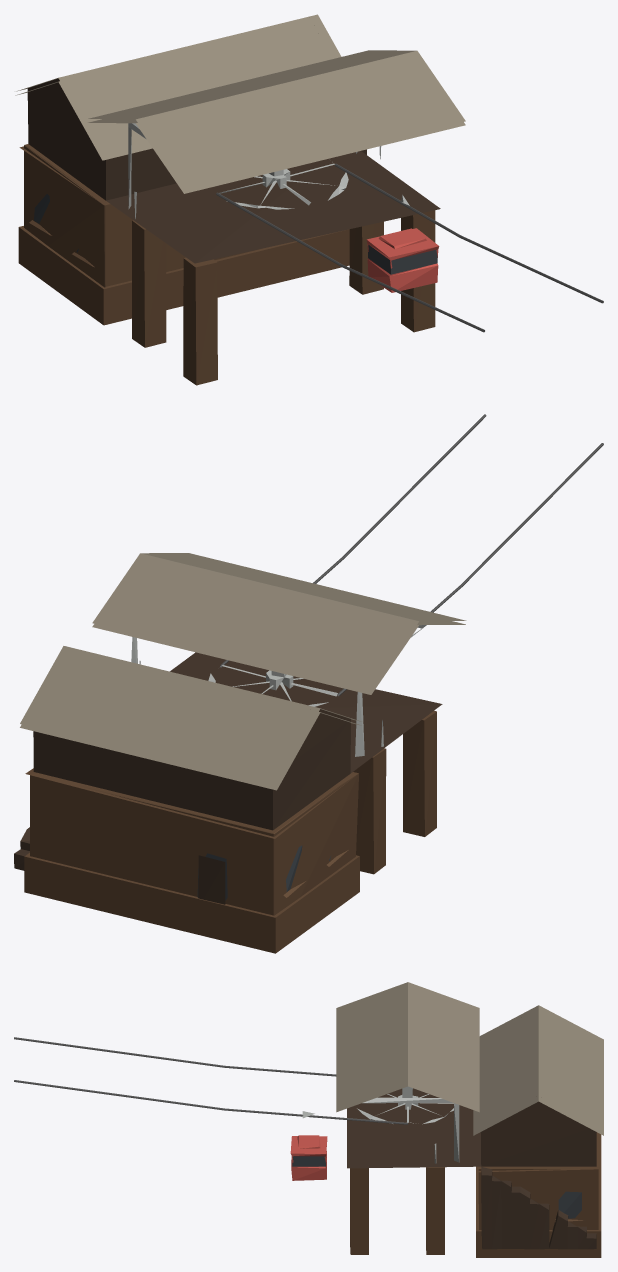
Rendered from cablecar-station-lod1.glb.
The picture shows the model from 3 angles, top to bottom: view 1: azimuth 30°, elevation 25°; view 2: azimuth 150°, elevation 25°; view 3: azimuth 270°, elevation 25°; orthographic projection. The views are drawn at different scales.
Size of the model in its own units: 11.4 by 9.4 by 28.01.
